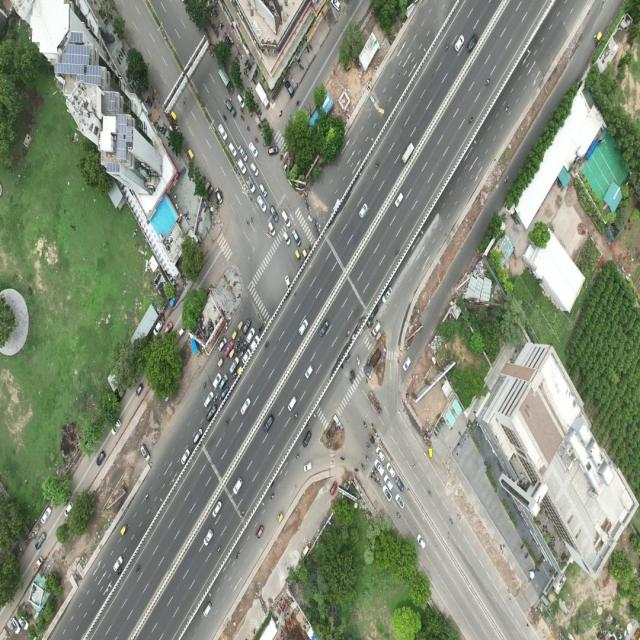3W: (595, 32, 602, 43), (217, 358, 224, 368), (278, 512, 284, 523), (170, 111, 177, 120), (188, 149, 194, 159), (121, 525, 127, 535), (238, 320, 244, 330), (295, 250, 301, 260), (376, 332, 382, 341), (236, 366, 242, 375), (350, 370, 355, 380), (369, 434, 374, 444), (229, 349, 235, 357), (232, 329, 237, 338), (429, 448, 433, 459), (303, 248, 307, 257)
Cars: (240, 396, 251, 416), (467, 33, 478, 53), (35, 531, 46, 550), (263, 414, 273, 433), (140, 444, 150, 462), (226, 100, 236, 118), (281, 210, 291, 228), (229, 356, 239, 374), (203, 392, 214, 408), (41, 507, 51, 524), (111, 419, 121, 436), (292, 229, 302, 246), (319, 320, 329, 337), (224, 339, 234, 356), (206, 404, 216, 421), (239, 144, 248, 162), (299, 318, 308, 336), (204, 528, 213, 546), (10, 618, 20, 634), (218, 124, 228, 140), (180, 449, 190, 465), (382, 287, 392, 303), (386, 462, 396, 478), (249, 141, 258, 158), (455, 34, 464, 51), (212, 501, 221, 518), (64, 502, 74, 517), (113, 556, 123, 571), (257, 196, 266, 212), (242, 318, 251, 334), (359, 202, 368, 218), (233, 478, 242, 494), (203, 602, 212, 618), (303, 432, 312, 448), (219, 374, 228, 390), (194, 428, 203, 444), (376, 446, 385, 462), (384, 474, 393, 490), (383, 484, 392, 500), (18, 616, 28, 630), (394, 193, 404, 207), (246, 177, 255, 192), (250, 336, 259, 351), (255, 526, 264, 541), (242, 349, 251, 364), (417, 534, 426, 549), (395, 494, 404, 509), (375, 460, 384, 475), (238, 158, 246, 174), (270, 206, 278, 222), (305, 364, 313, 380), (213, 372, 221, 388), (403, 356, 411, 372), (96, 451, 105, 465), (135, 383, 144, 397), (246, 328, 255, 342), (395, 478, 404, 492), (154, 320, 162, 335), (229, 142, 237, 157), (283, 231, 291, 246), (218, 336, 226, 351), (288, 396, 296, 411), (220, 387, 230, 399), (370, 306, 378, 320), (373, 322, 381, 336), (330, 480, 338, 494), (164, 322, 173, 334), (251, 162, 258, 177), (215, 188, 222, 203), (237, 95, 245, 108), (285, 81, 293, 94), (259, 185, 267, 198), (268, 145, 278, 155), (330, 1, 341, 10), (268, 223, 275, 236), (284, 275, 290, 290), (304, 462, 312, 471), (345, 353, 351, 362)
LCV: (403, 143, 414, 163), (32, 556, 43, 574)
M2W: (269, 493, 274, 502), (136, 566, 141, 573), (363, 420, 367, 428), (375, 160, 379, 168), (262, 141, 267, 147), (223, 114, 227, 121), (346, 330, 350, 337), (428, 490, 432, 497), (469, 117, 473, 124), (445, 44, 449, 51), (296, 452, 300, 459), (294, 413, 298, 420), (486, 78, 489, 87), (237, 551, 240, 560), (144, 494, 148, 500), (226, 418, 230, 424), (258, 326, 262, 332), (240, 114, 244, 120), (296, 100, 300, 106), (361, 464, 365, 470), (340, 455, 344, 461), (217, 547, 221, 553), (118, 568, 121, 575), (412, 461, 415, 468), (506, 105, 509, 112), (271, 482, 274, 489), (396, 248, 399, 255), (236, 344, 240, 349), (203, 382, 206, 388), (214, 396, 217, 402), (241, 350, 244, 356), (247, 126, 250, 132), (350, 378, 353, 384), (367, 443, 370, 449), (366, 456, 369, 462), (372, 468, 375, 474), (370, 473, 373, 479), (377, 477, 380, 483), (397, 512, 400, 518), (450, 518, 453, 524), (505, 176, 508, 182), (241, 511, 244, 517), (280, 110, 282, 118), (233, 373, 236, 378), (242, 342, 245, 347), (245, 344, 248, 349), (239, 347, 242, 352), (255, 137, 258, 142), (341, 364, 344, 369), (355, 467, 358, 472), (378, 483, 381, 488), (307, 422, 310, 427), (280, 154, 282, 161), (235, 351, 238, 355), (266, 342, 268, 348), (458, 514, 461, 518), (238, 337, 240, 342), (241, 338, 243, 343), (374, 477, 376, 482), (366, 379, 368, 384)
MAV: (218, 66, 234, 95), (255, 82, 269, 109)
